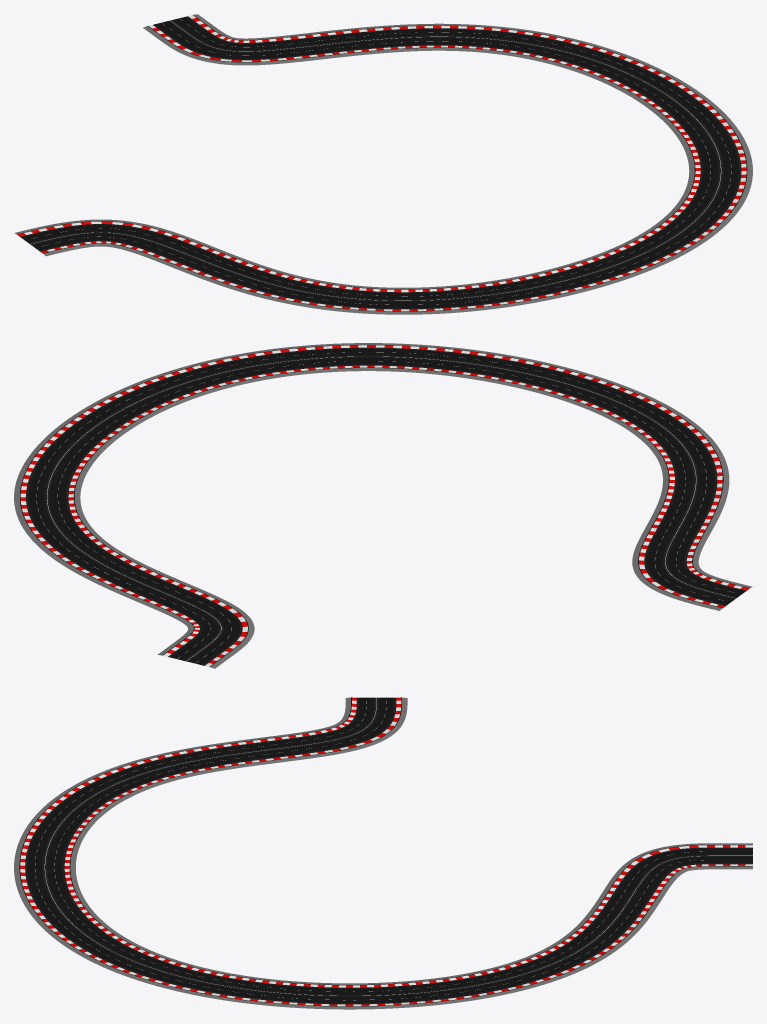
The model's file is S0.1l1-chikB.glb.
3 views of the same model, one above another, from view 1: azimuth 30°, elevation 25°; view 2: azimuth 150°, elevation 25°; view 3: azimuth 270°, elevation 25° (orthographic). The views are drawn at different scales.
Visible parts, largest first — view 1: Grid.001; view 2: Grid.001; view 3: Grid.001.
Part boxes in pixels (bbox=[...]): Grid.001: bbox=[14, 14, 752, 314]; Grid.001: bbox=[14, 343, 752, 668]; Grid.001: bbox=[14, 697, 752, 1009].
Bounding box in the file's own units: 298 × 0.31 × 299.
